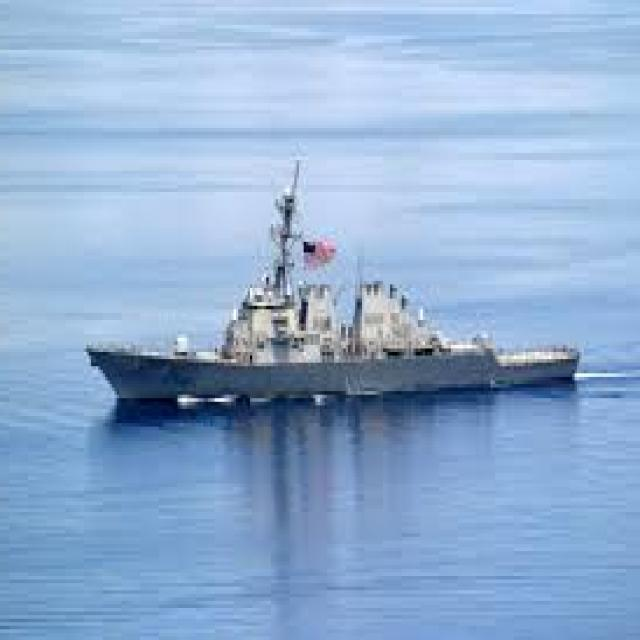navalvessels: (84, 144, 582, 419)
